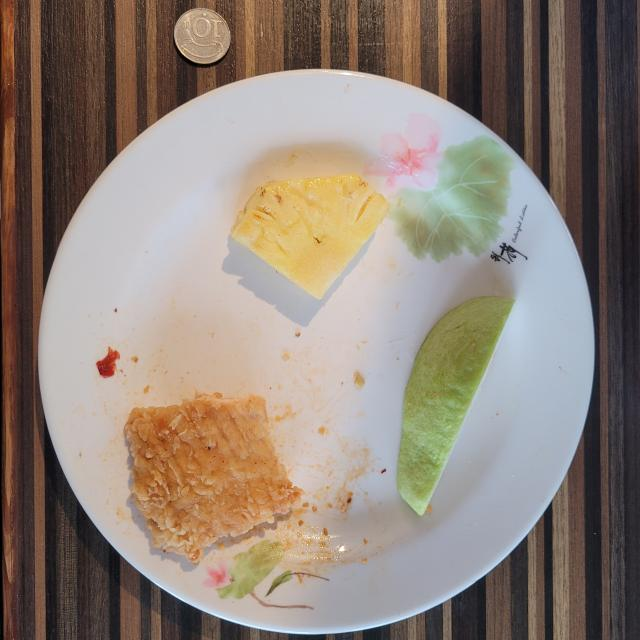coin: (174, 9, 231, 64)
fried chicken cutlet: (125, 392, 301, 564)
guava -sliced-: (398, 296, 514, 515)
pineapple: (231, 175, 390, 299)
